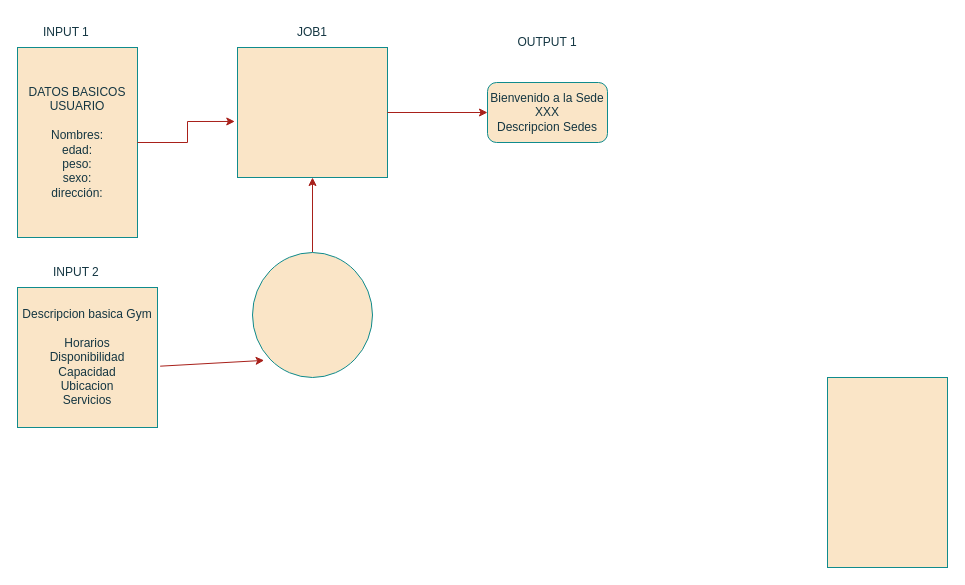
Image size: 965x585. Some labels were removed from this diagram. Each missing label, with the box of its shape:
Archivo de Sedes Disponibles Nombre Direccion Horarios: (252, 252, 372, 378)
INGRESAR SEDES GYM VAR1: SEDE DISPONIBLE: (236, 46, 388, 178)
